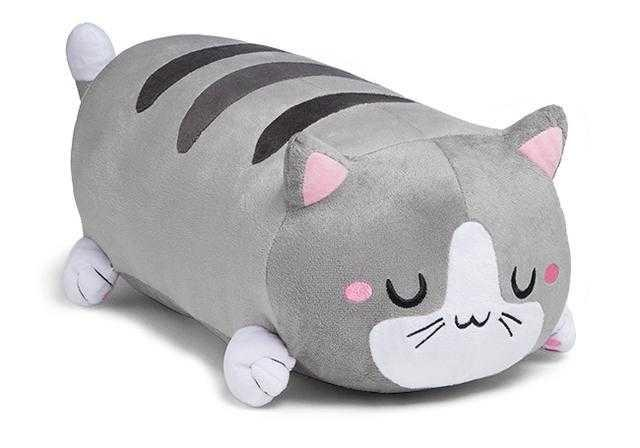pillow: (62, 22, 576, 406)
